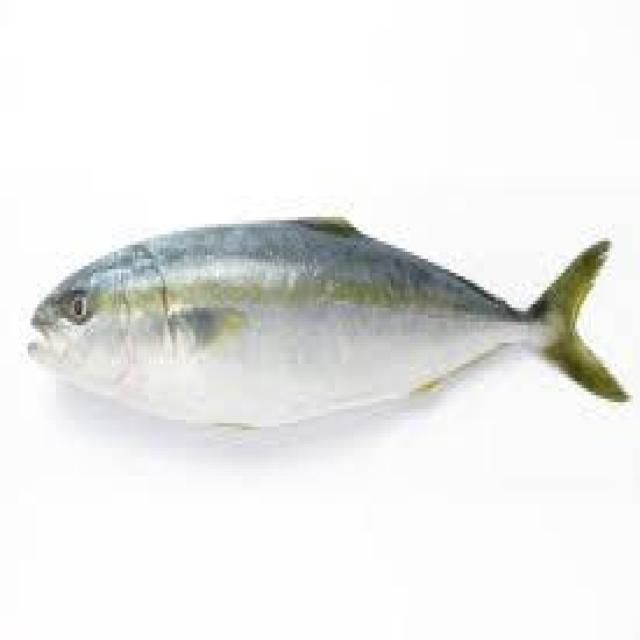Kingfish: (26, 211, 634, 434)
